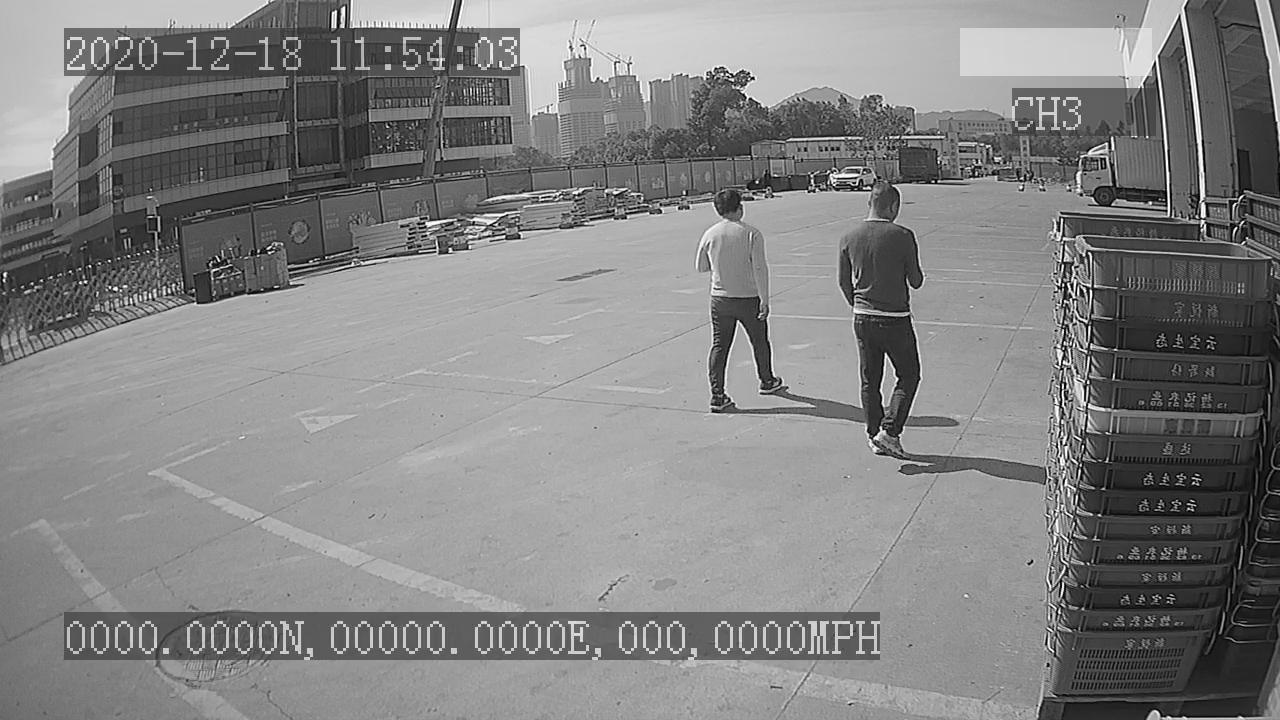person: (829, 181, 933, 465), (692, 186, 788, 419)
